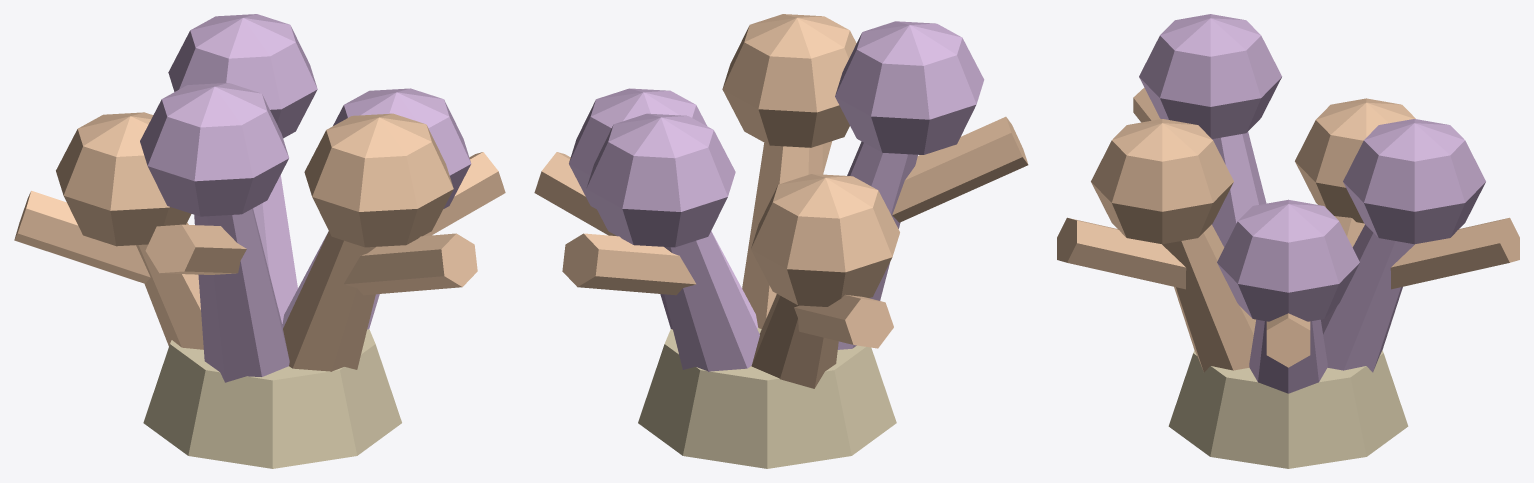
File: coral_2.glb
3 renders of one model, left to right at view 1: azimuth 30°, elevation 25°; view 2: azimuth 150°, elevation 25°; view 3: azimuth 270°, elevation 25°, orthographic. The views are drawn at different scales.
Parts seen in each view (by area): view 1: coral_2; view 2: coral_2; view 3: coral_2.
Part boxes in pixels (left/top/right/bottom): coral_2: left=14, top=14, right=505, bottom=468; coral_2: left=534, top=14, right=1028, bottom=468; coral_2: left=1057, top=14, right=1519, bottom=468.
Bounding box in the file's own units: 1.24 × 1.09 × 1.29.
